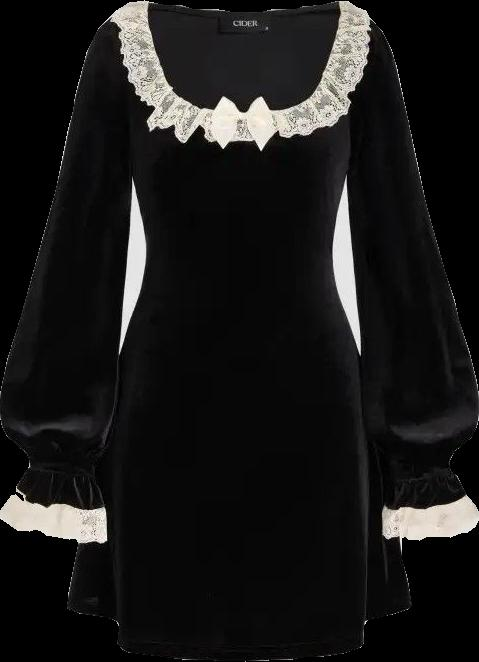Bodice: (108, 1, 370, 278)
Hemline: (63, 600, 416, 661)
Neckline: (145, 0, 345, 117)
Skirt: (67, 273, 411, 660)
Sleeve: (345, 17, 478, 543), (0, 20, 132, 543)
Sleeveline: (343, 17, 376, 177), (105, 16, 135, 171), (382, 466, 452, 485), (27, 460, 94, 478)
